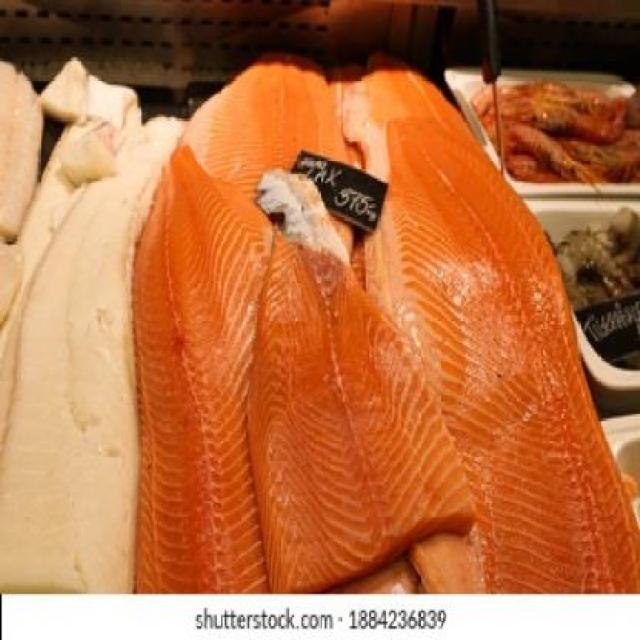salmon: (356, 111, 640, 600), (120, 135, 332, 597), (245, 211, 473, 590), (180, 55, 357, 394), (337, 64, 527, 346)
